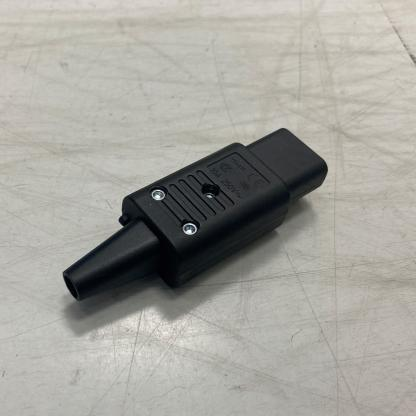SP0000006: (51, 97, 345, 349)
